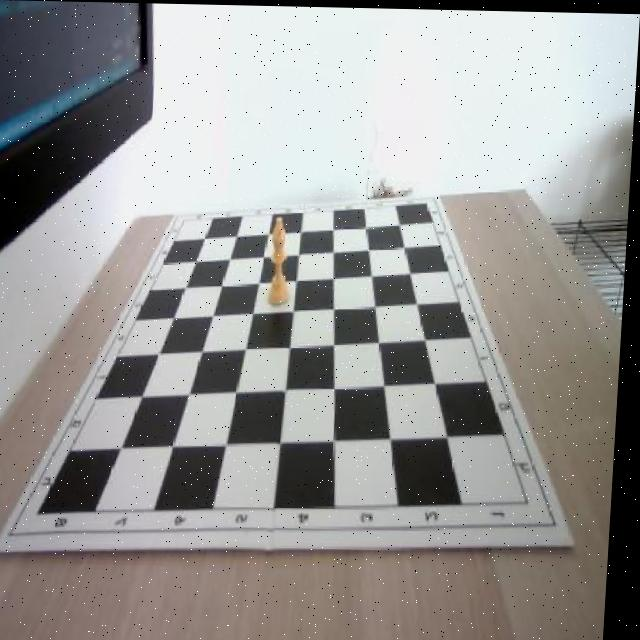black-rook: (271, 214, 297, 303)
